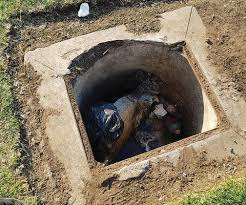Manhole-Open: (50, 30, 237, 180)
